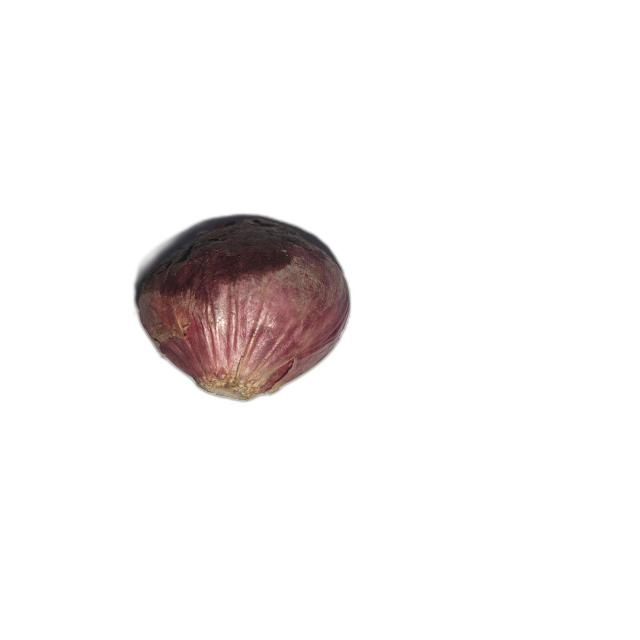onion: (137, 217, 351, 402)
